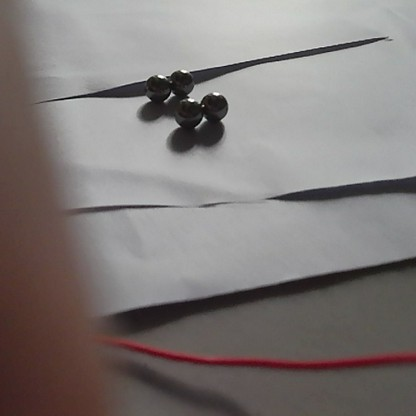ironball: (202, 90, 228, 119), (174, 98, 201, 124), (145, 74, 170, 100), (169, 69, 193, 93)
